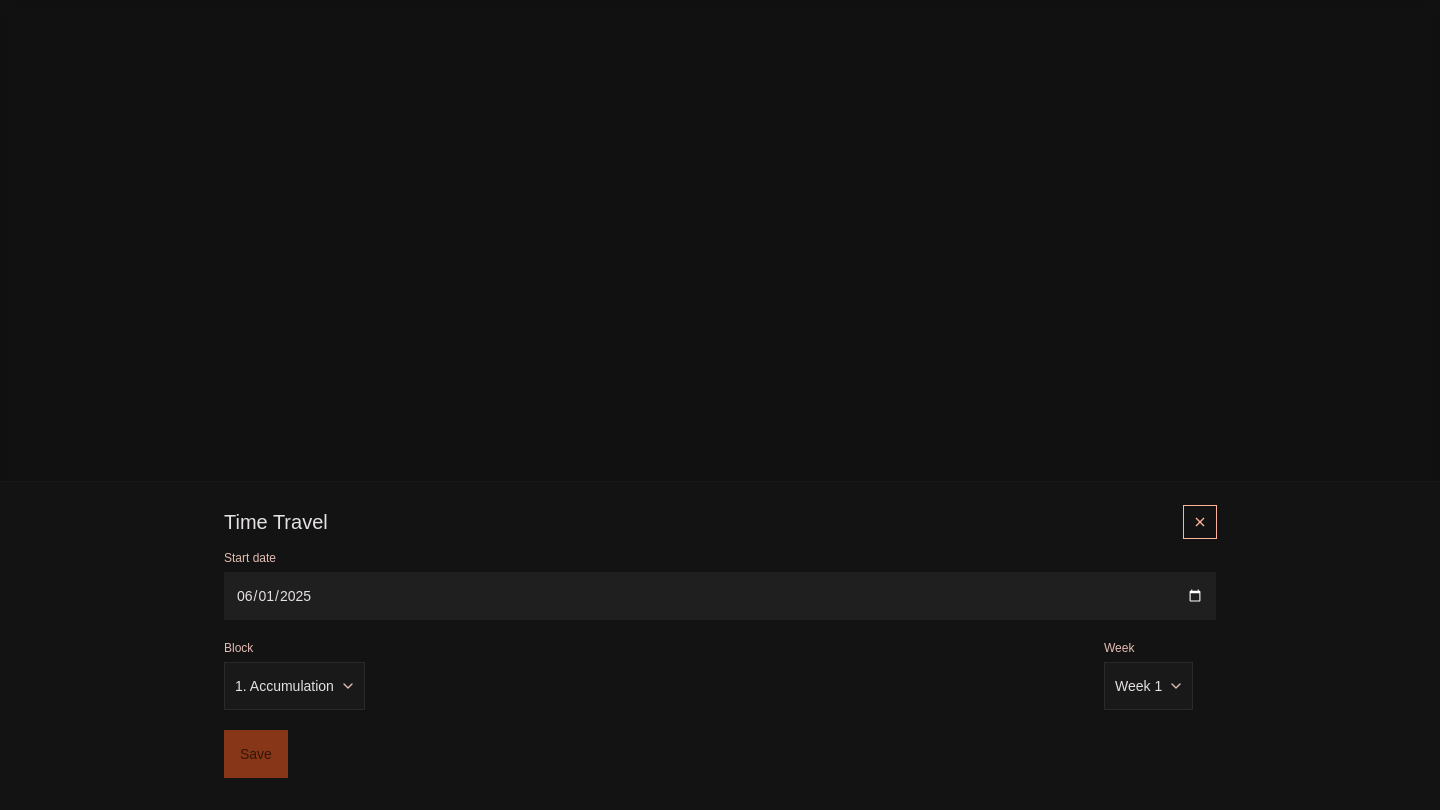
Test: TimeTravelSheet › updates position selectors when start date changes
Step 1. Clear the date field named "Program start date" → {"x": 720, "y": 596}, box [224,572,1216,620]
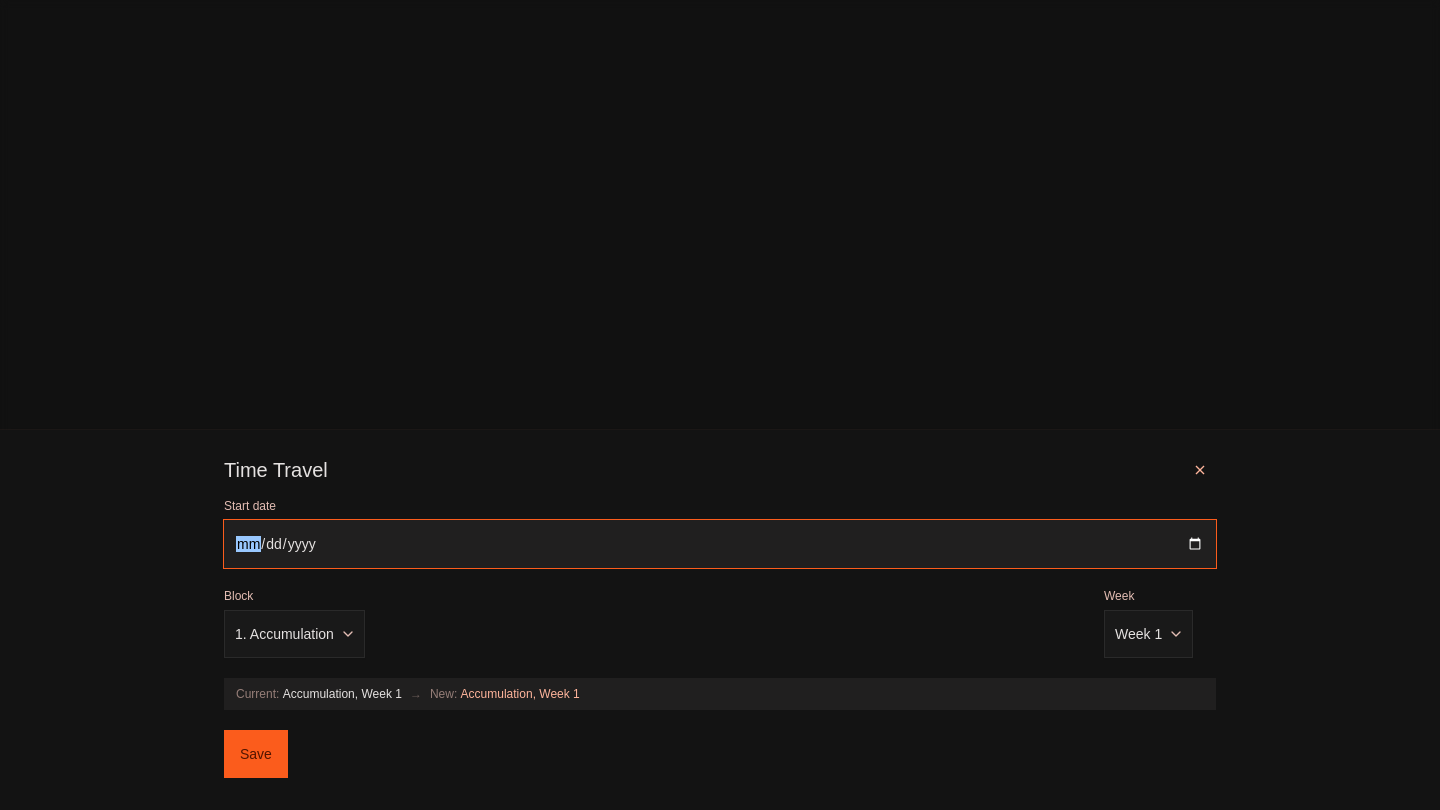
Step 2. Type "2025-05-25" into the date field named "Program start date" → {"x": 720, "y": 544}, box [224,520,1216,568]
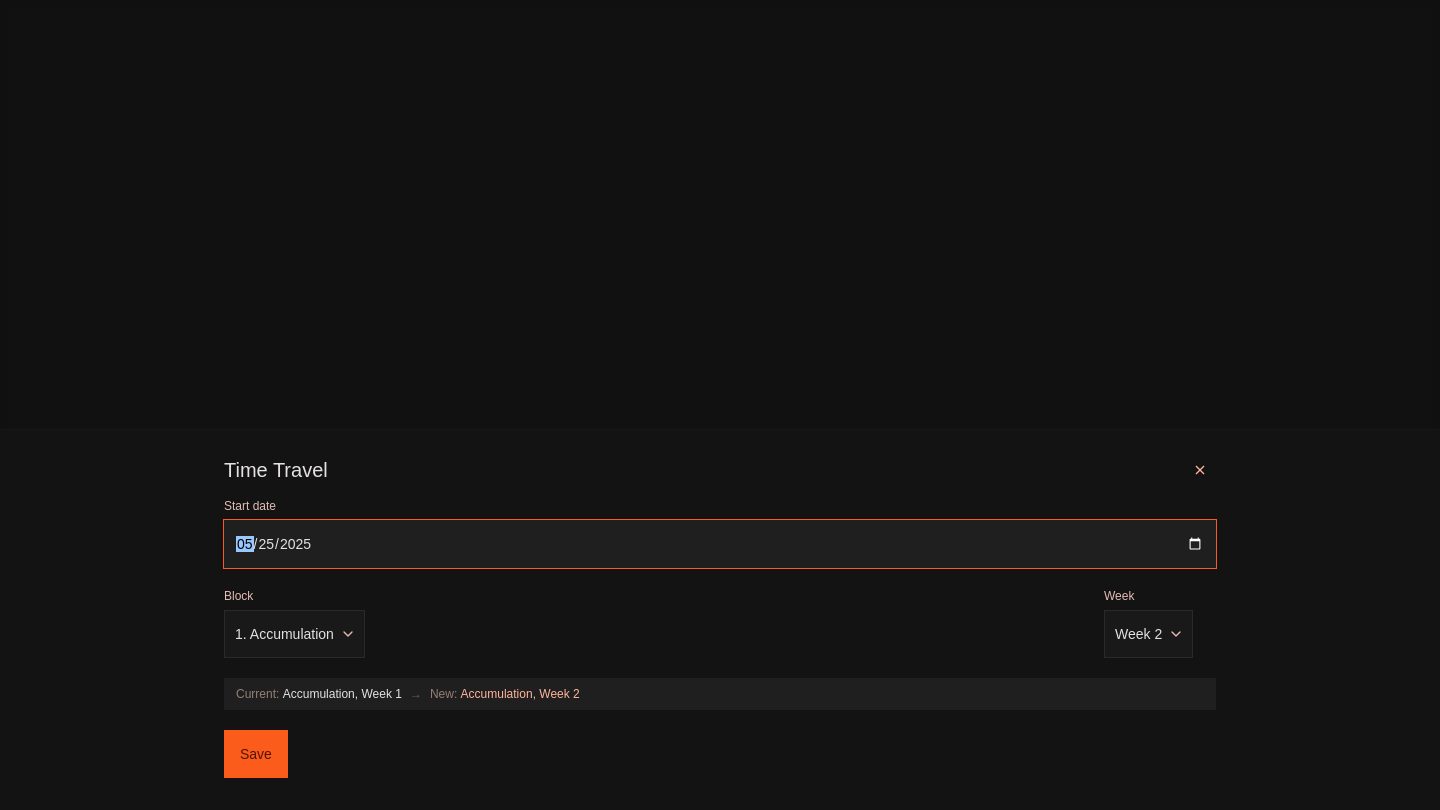
Check: the text "Accumulation, Week 2" is shown, box [461,687,580,701]
